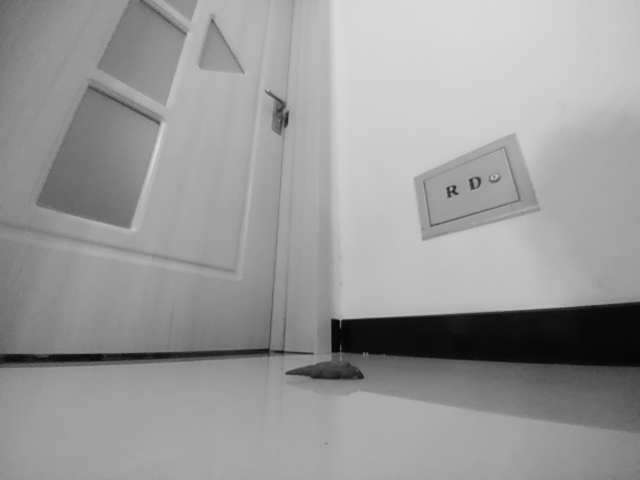pet feces: (284, 360, 365, 384)
